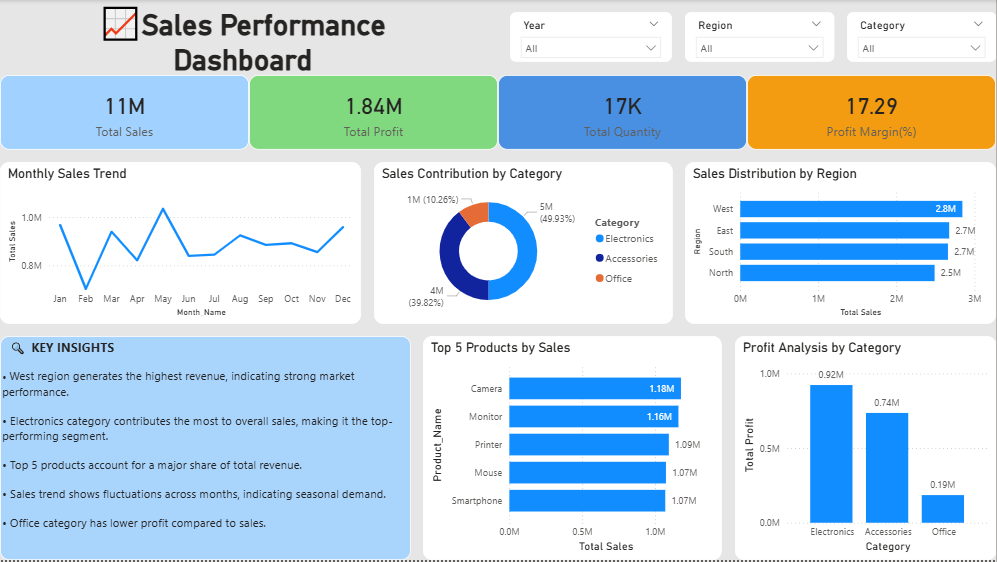

The page's visual inventory and layout, read from the dashboard file:
{"tool":"powerbi","page":{"name":"Sales Performance Dashboard","canvas":[1280,720],"ordinal":0},"visuals":[{"type":"card","title":"       💰","fields":{"Values":["sales_project cleaned_sales_data.Total Sales"]},"box":[0,96,320,96],"z":0},{"type":"card","fields":{"Values":["sales_project cleaned_sales_data.Total Profit"]},"box":[320,96,320,96],"z":1000},{"type":"card","fields":{"Values":["sales_project cleaned_sales_data.Total Quantity"]},"box":[640,96,320,96],"z":2000},{"type":"card","fields":{"Values":["sales_project cleaned_sales_data.Profit Margin"]},"box":[960,96,320,96],"z":3000},{"type":"slicer","fields":{"Values":["sales_project cleaned_sales_data.Year"]},"box":[656,16,208,64],"z":4000},{"type":"slicer","fields":{"Values":["sales_project cleaned_sales_data.Region"]},"box":[880,16,192,64],"z":5000},{"type":"slicer","fields":{"Values":["sales_project cleaned_sales_data.Category"]},"box":[1088,16,192,64],"z":6000},{"type":"lineChart","title":"Monthly Sales Trend","fields":{"Category":["sales_project cleaned_sales_data.Month_Name"],"Y":["sales_project cleaned_sales_data.Total Sales"]},"box":[0,208,464,208],"z":7000},{"type":"clusteredBarChart","title":"Sales Distribution by Region","fields":{"Category":["sales_project cleaned_sales_data.Region"],"Y":["sales_project cleaned_sales_data.Total Sales"]},"box":[880,208,400,208],"z":8000},{"type":"donutChart","title":"Sales Contribution by Category","fields":{"Category":["sales_project cleaned_sales_data.Category"],"Y":["sales_project cleaned_sales_data.Total Sales"]},"box":[480,208,384,208],"z":9000},{"type":"barChart","title":"Top 5 Products by Sales","fields":{"Category":["sales_project cleaned_sales_data.Product_Name"],"Y":["sales_project cleaned_sales_data.Total Sales"]},"box":[544,432,384,288],"z":10000},{"type":"clusteredColumnChart","title":"Profit Analysis by Category","fields":{"Category":["sales_project cleaned_sales_data.Category"],"Y":["sales_project cleaned_sales_data.Total Profit"]},"box":[944,432,336,288],"z":11000},{"type":"shape","title":"📈Sales Performance Dashboard","box":[0,0,624,96],"z":12000},{"type":"textbox","title":"✅ Key Insights","box":[0,432,528,288],"z":12002}]}

Visuals, with their boxes in screenshot pixels (x1, y1, x2, y2), scaled from the page's 1280x720 canvas onto the 997x562 screenshot:
"       💰" card: {"left": 0, "top": 75, "right": 249, "bottom": 150}
card - sales_project cleaned_sales_data.Total Profit: {"left": 249, "top": 75, "right": 498, "bottom": 150}
card - sales_project cleaned_sales_data.Total Quantity: {"left": 498, "top": 75, "right": 748, "bottom": 150}
card - sales_project cleaned_sales_data.Profit Margin: {"left": 748, "top": 75, "right": 996, "bottom": 150}
slicer - sales_project cleaned_sales_data.Year: {"left": 511, "top": 12, "right": 673, "bottom": 62}
slicer - sales_project cleaned_sales_data.Region: {"left": 685, "top": 12, "right": 835, "bottom": 62}
slicer - sales_project cleaned_sales_data.Category: {"left": 847, "top": 12, "right": 996, "bottom": 62}
"Monthly Sales Trend" lineChart: {"left": 0, "top": 162, "right": 361, "bottom": 325}
"Sales Distribution by Region" clusteredBarChart: {"left": 685, "top": 162, "right": 996, "bottom": 325}
"Sales Contribution by Category" donutChart: {"left": 374, "top": 162, "right": 673, "bottom": 325}
"Top 5 Products by Sales" barChart: {"left": 424, "top": 337, "right": 723, "bottom": 561}
"Profit Analysis by Category" clusteredColumnChart: {"left": 735, "top": 337, "right": 996, "bottom": 561}
"📈Sales Performance Dashboard" shape: {"left": 0, "top": 0, "right": 486, "bottom": 75}
"✅ Key Insights" textbox: {"left": 0, "top": 337, "right": 411, "bottom": 561}
